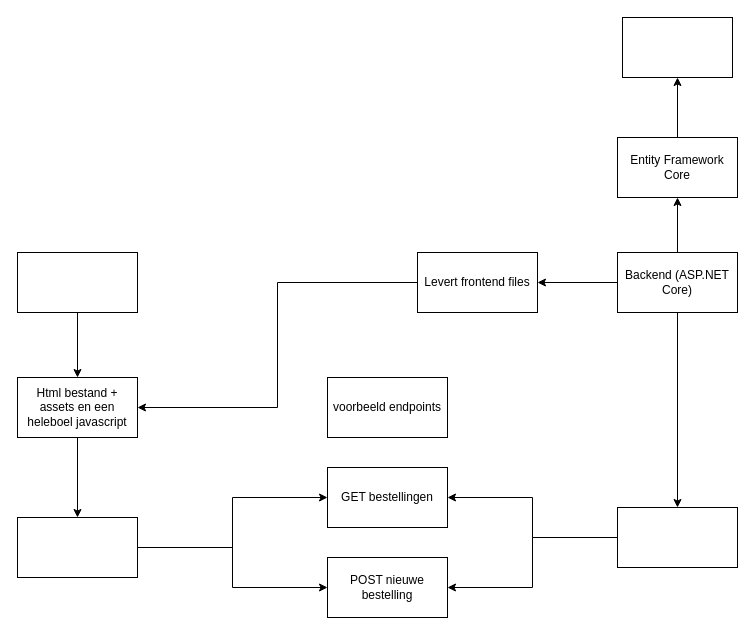
Some shapes in this 755 by 635 pixel diagram are drawn without their labels. Each missing label, with the centre of its shape:
"Exposet HTTP endpoints" goes at pixel 677 537.
"Frontend (React)" goes at pixel 77 282.
"Javascript praat met de backend via HTTP (Fetch API)" goes at pixel 77 547.
"PostgreSQL database" goes at pixel 677 47.
